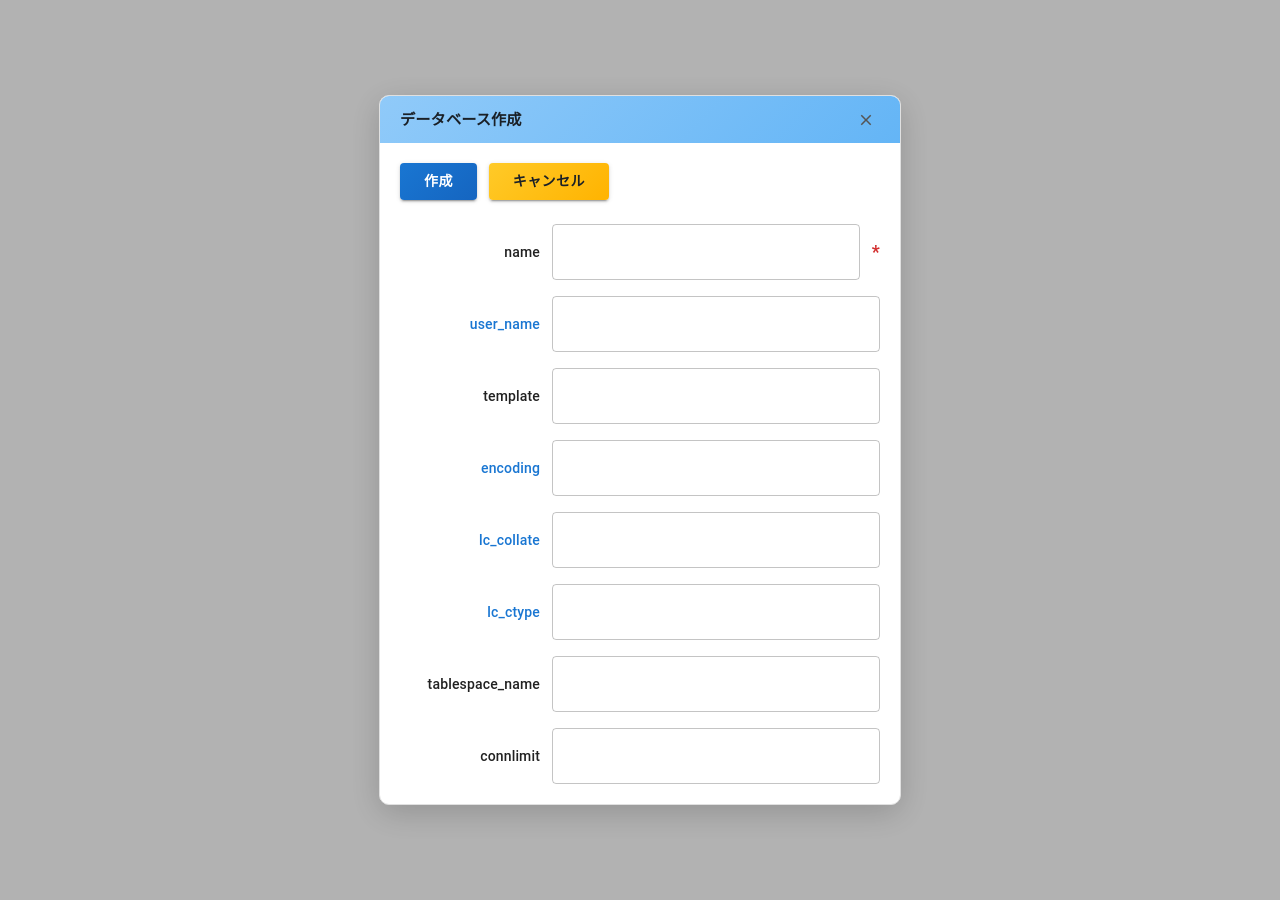
it: CreateDatabaseModal › shows validation error when name is empty and create is clicked
Click the button "作成": (438, 182) left=400, top=163, right=477, bottom=200
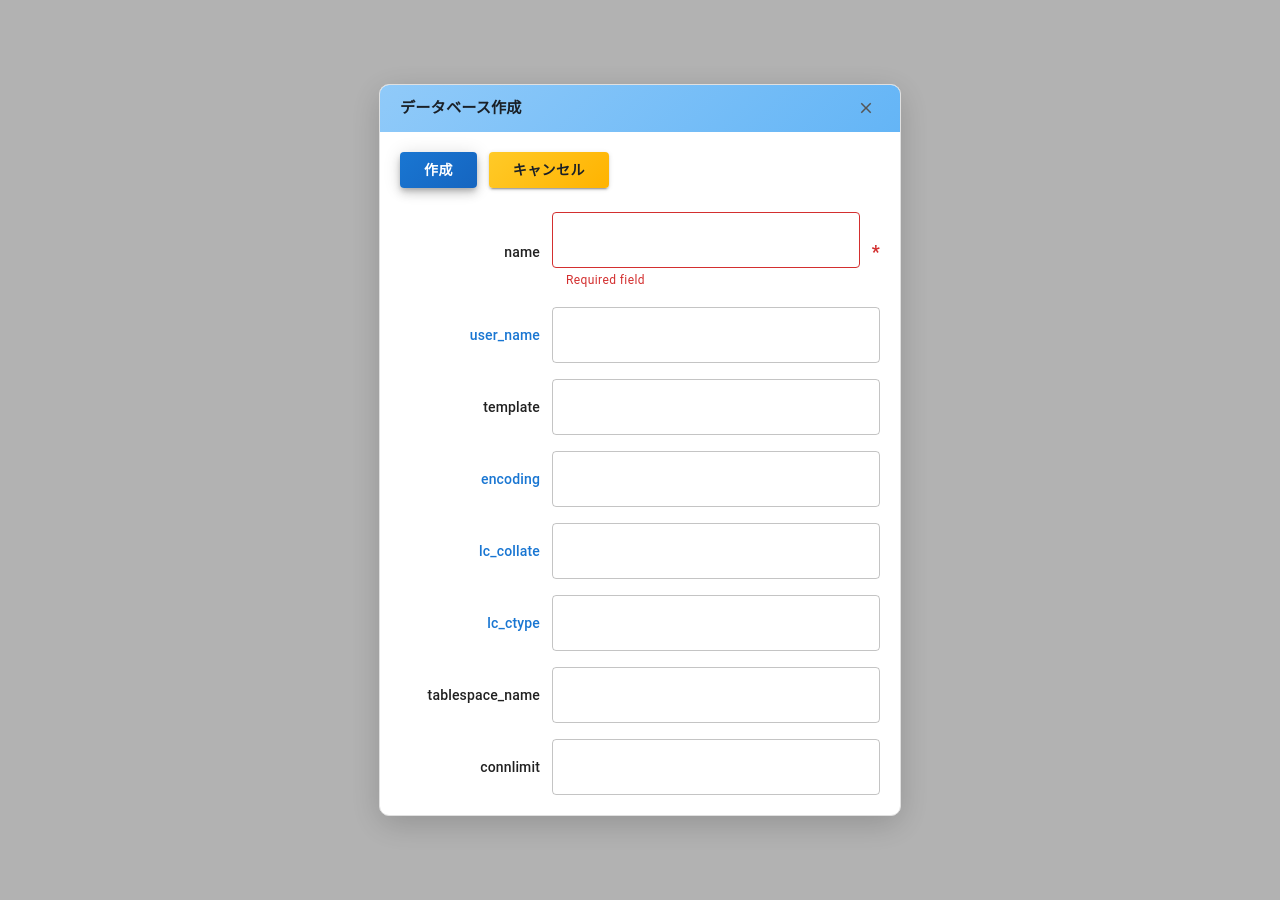
Result: the text "Required field" is shown at left=566, top=273, right=645, bottom=287
